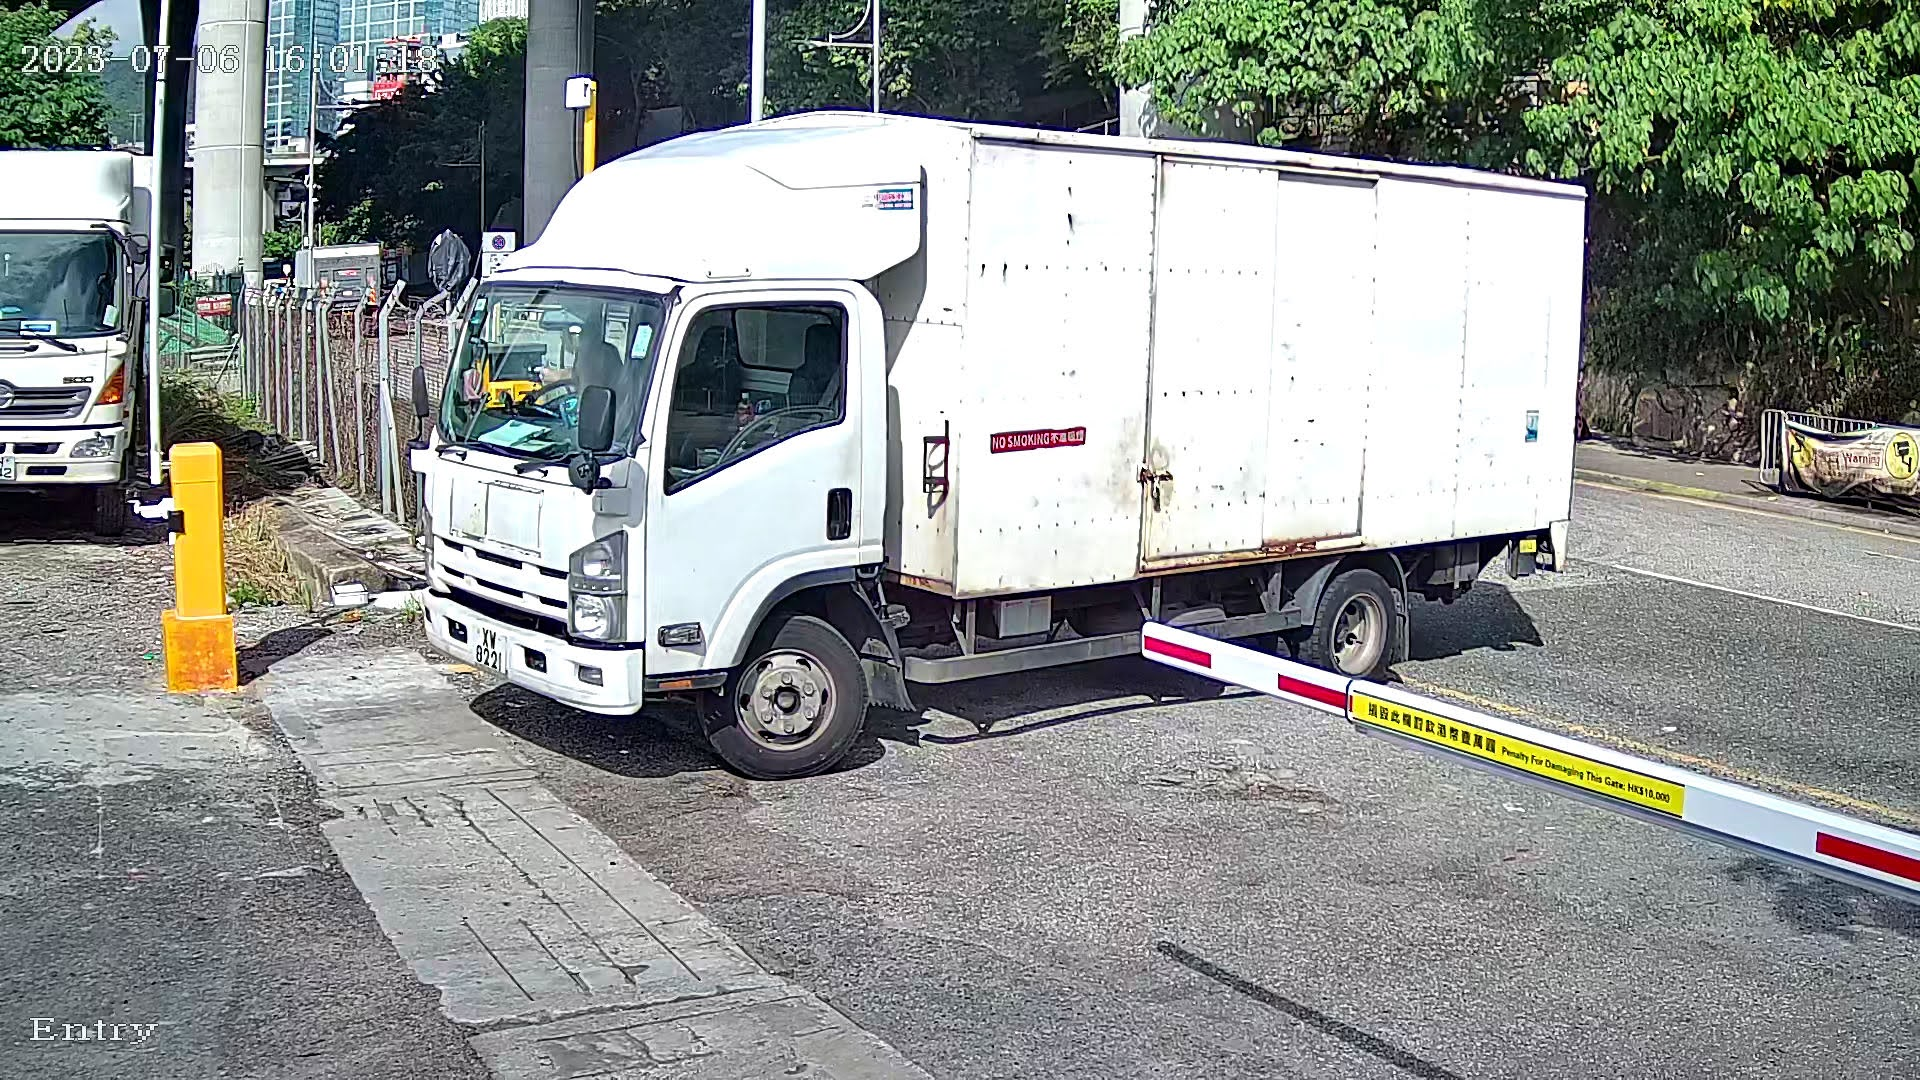truck_small: (382, 99, 1679, 833)
